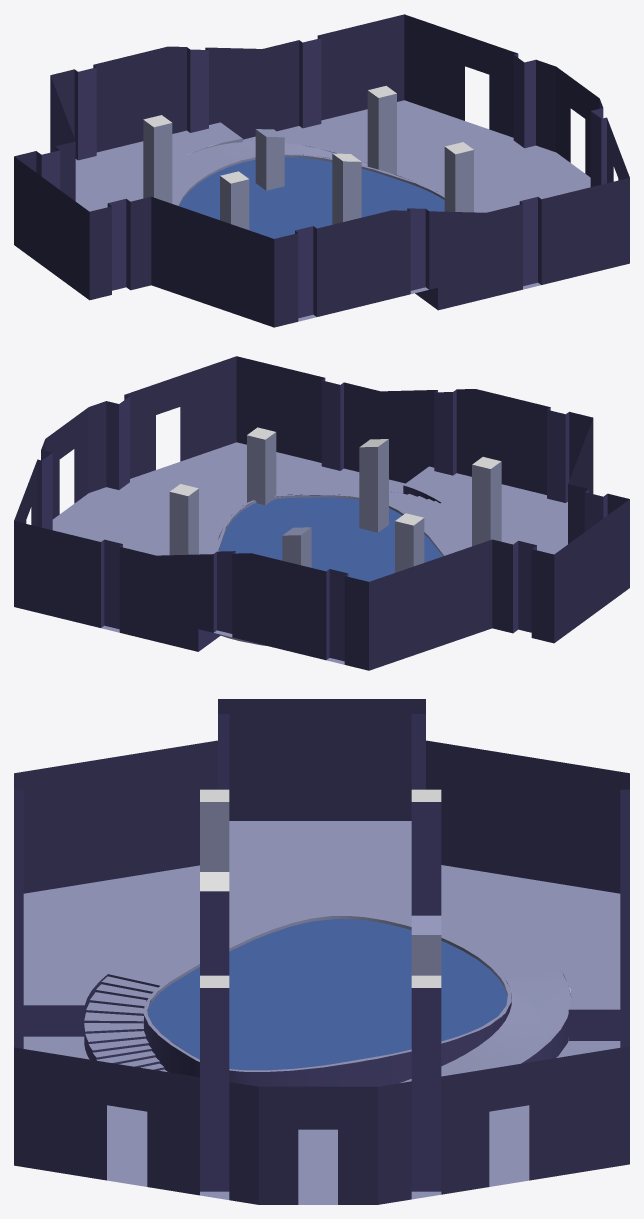
Rendered from b1_lobby-col.glb.
The picture shows the model from 3 angles, top to bottom: view 1: azimuth 30°, elevation 25°; view 2: azimuth 150°, elevation 25°; view 3: azimuth 270°, elevation 25°; orthographic projection. The views are drawn at different scales.
Visible parts, largest first — view 1: b1-col, lower_floor-col, water, upper_floor-col; view 2: b1-col, lower_floor-col, water, upper_floor-col; view 3: b1-col, upper_floor-col, water, lower_floor-col.
Part boxes in pixels (<box>): b1-col: <box>14,14,629,327</box>; lower_floor-col: <box>242,100,590,212</box>; water: <box>179,157,444,238</box>; upper_floor-col: <box>75,122,428,319</box>; b1-col: <box>14,356,629,670</box>; lower_floor-col: <box>52,442,405,632</box>; water: <box>219,497,442,581</box>; upper_floor-col: <box>327,466,567,664</box>; b1-col: <box>14,699,629,1204</box>; upper_floor-col: <box>23,821,620,1009</box>; water: <box>147,919,507,1070</box>; lower_floor-col: <box>23,1036,620,1204</box>.
Bounding box in the file's own units: 46.87 × 9.51 × 34.61.
